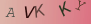A: (5, 7, 16, 18)
K: (56, 1, 72, 17), (35, 3, 47, 18)
V: (23, 5, 36, 19)
Y: (75, 1, 86, 13)
